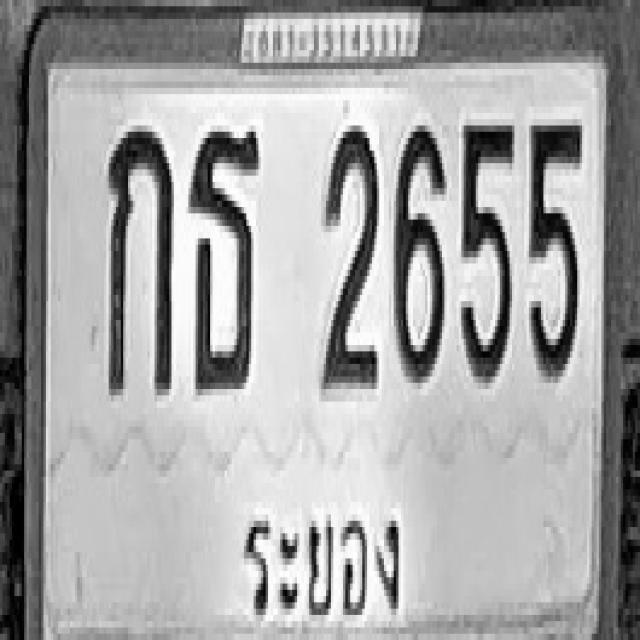10GorGai: (108, 126, 172, 396)
2: (320, 122, 378, 392)
33ThorThong: (188, 126, 258, 389)
5: (460, 119, 513, 383), (529, 119, 582, 377)
6: (394, 122, 444, 380)
Rayong: (224, 477, 416, 640)
